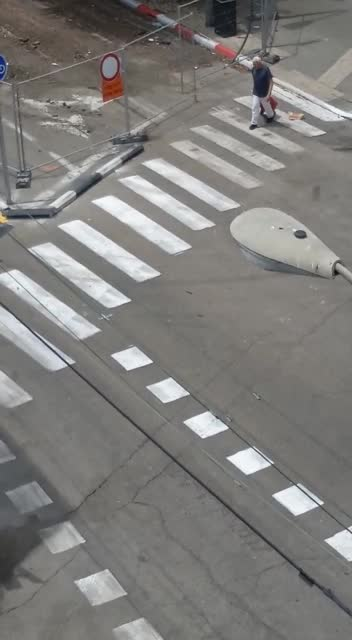crosswalk: (4, 68, 321, 337)
person: (239, 46, 286, 138)
